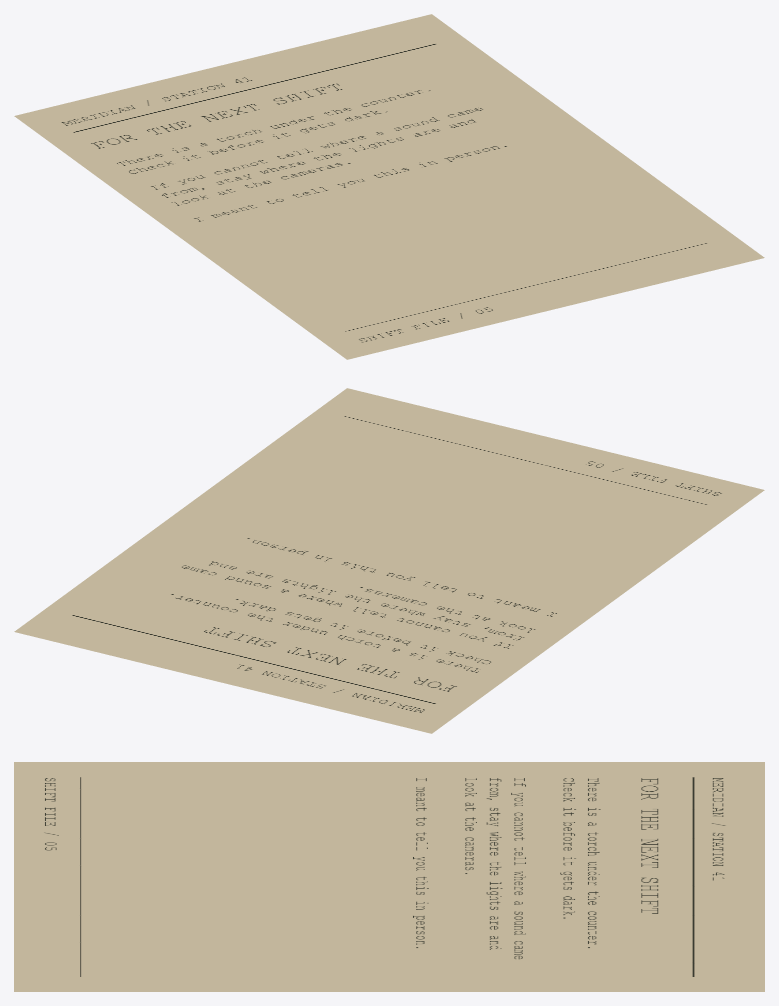
The model's file is letter_envelope.glb.
3 renders of one model, top to bottom at view 1: azimuth 30°, elevation 25°; view 2: azimuth 150°, elevation 25°; view 3: azimuth 270°, elevation 25°, orthographic. The views are drawn at different scales.
Parts seen in each view (by area): view 1: letter_envelope; view 2: letter_envelope; view 3: letter_envelope.
Part boxes in pixels (x1,y1,x2,y2): letter_envelope: [14, 14, 764, 359]; letter_envelope: [14, 388, 764, 733]; letter_envelope: [14, 762, 764, 991].
Bounding box in the file's own units: 0.21 × 0 × 0.29.
1 material, 1 textured.
